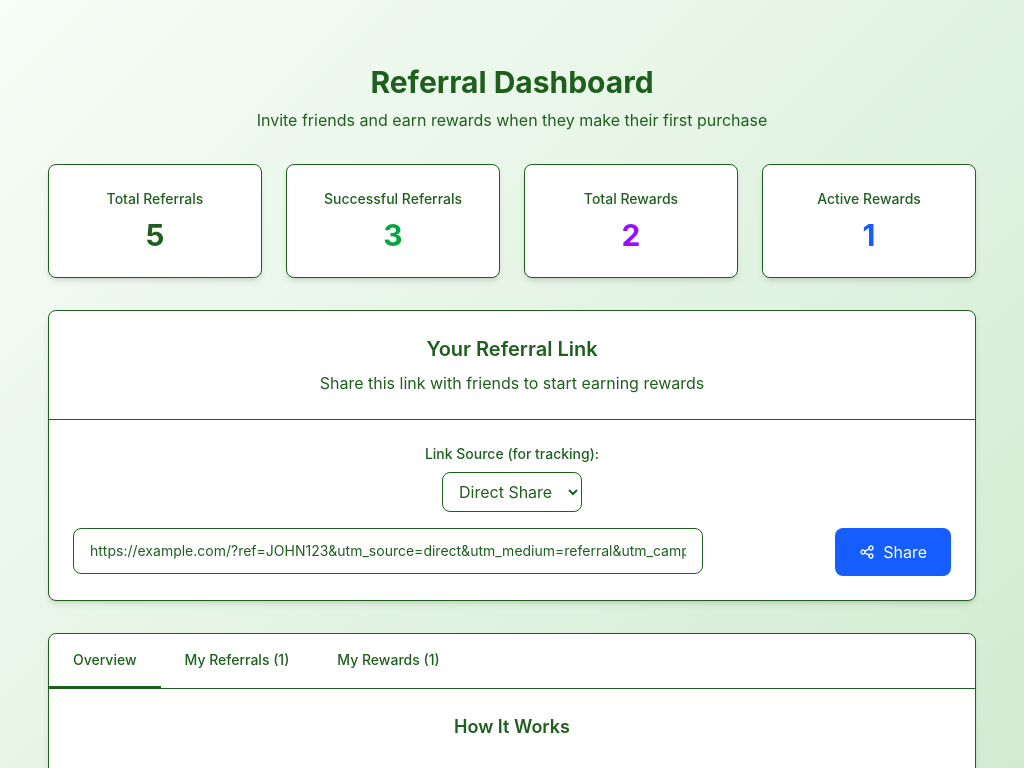
CustomerReferralDashboardPage › Tab Navigation › should switch tabs correctly
Expected: the heading "How It Works" is shown, [454,716,570,737]
Note: Switch to referrals tab
Click the button "My Referrals (1)" at [237, 661], box [160,634,313,688]
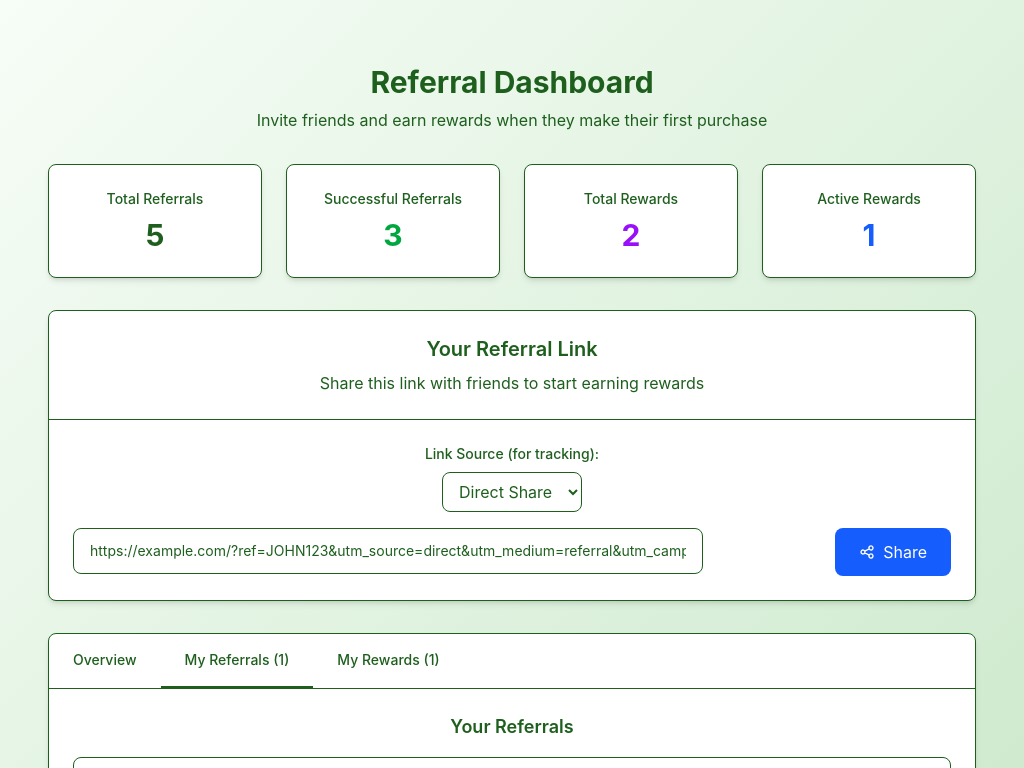
Expected: the heading "Your Referrals" is shown, [450,716,574,737]
Note: Switch to rewards tab
Click the button "My Rewards (1)" at [388, 661], box [313,634,464,688]
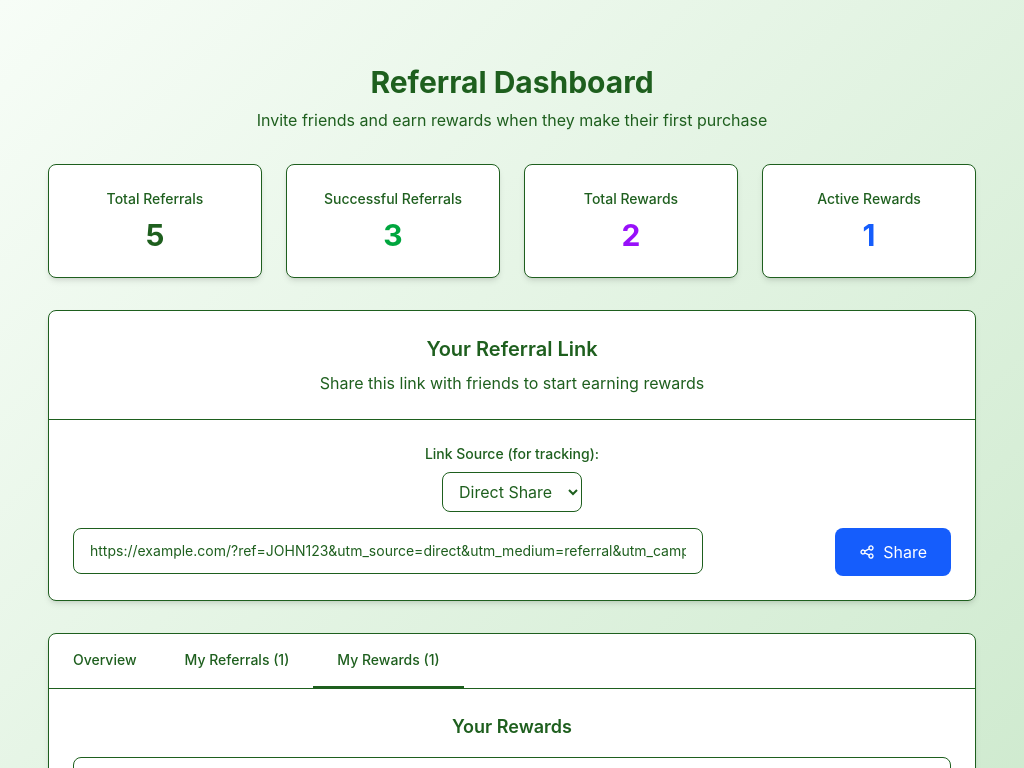
Expected: the heading "Your Rewards" is shown, [452,716,572,737]
